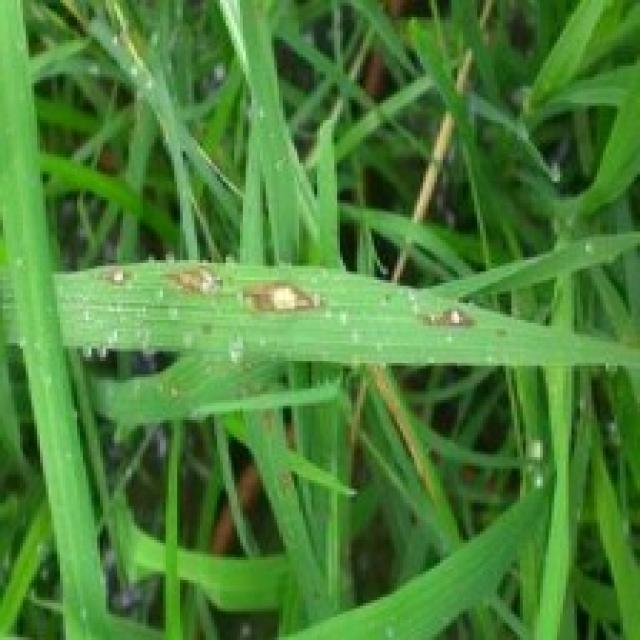Unhealthy: (238, 279, 324, 314), (157, 264, 221, 298), (413, 304, 478, 329), (100, 267, 133, 288)
